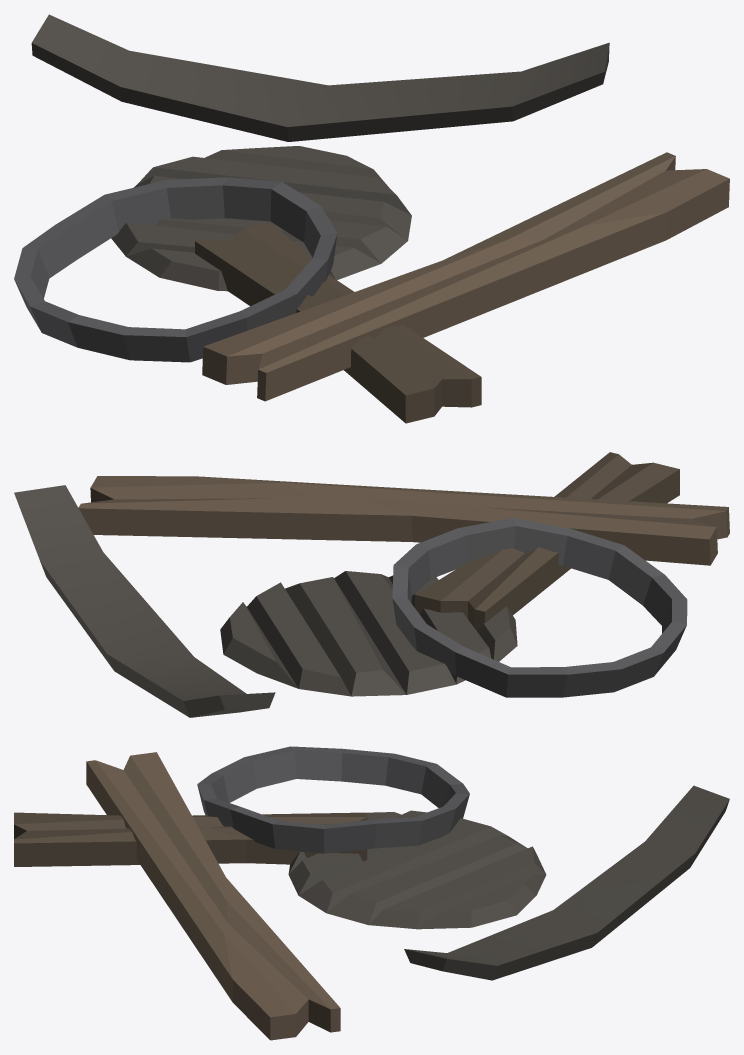
The model's file is SM_Prop_Debris_01.glb.
The picture shows the model from 3 angles, top to bottom: view 1: azimuth 30°, elevation 25°; view 2: azimuth 150°, elevation 25°; view 3: azimuth 270°, elevation 25°; orthographic projection. The views are drawn at different scales.
Parts seen in each view (by area): view 1: SM_Prop_Debris_01; view 2: SM_Prop_Debris_01; view 3: SM_Prop_Debris_01.
Boxes of the visible parts, <box> form: SM_Prop_Debris_01: <box>14,14,729,423</box>; SM_Prop_Debris_01: <box>14,452,729,717</box>; SM_Prop_Debris_01: <box>14,746,729,1040</box>.
Bounding box in the file's own units: 0.014 × 0.00185 × 0.0158.
